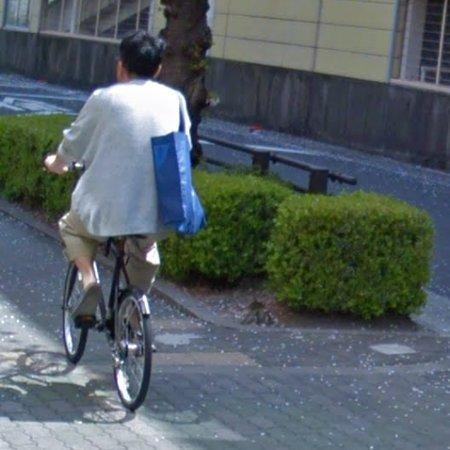bicycles: (94, 238, 151, 411), (62, 263, 89, 364)
